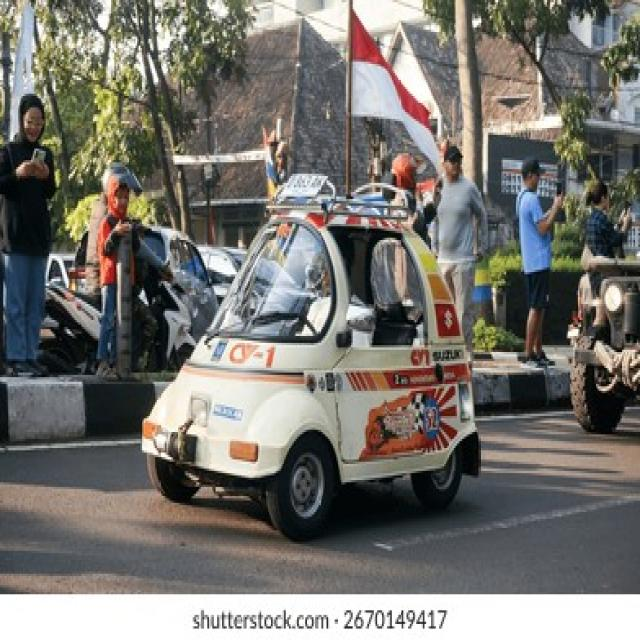suzuki: (437, 304, 462, 335)
